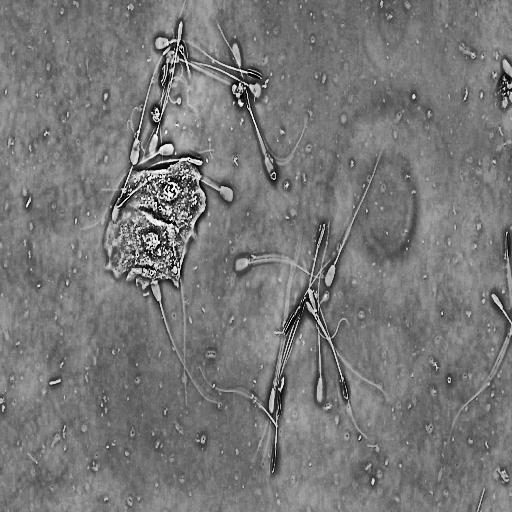dirt-particles: (105, 155, 209, 291), (495, 55, 512, 114), (232, 82, 247, 113), (150, 103, 160, 125)
loose-tail: (198, 364, 280, 430), (315, 292, 350, 342)
normal: (216, 22, 277, 183), (150, 278, 224, 408), (324, 145, 384, 290), (142, 21, 183, 164), (128, 46, 173, 165), (169, 38, 263, 84), (307, 290, 343, 382), (179, 59, 261, 97), (315, 220, 331, 406), (233, 255, 331, 282), (269, 335, 284, 476)
